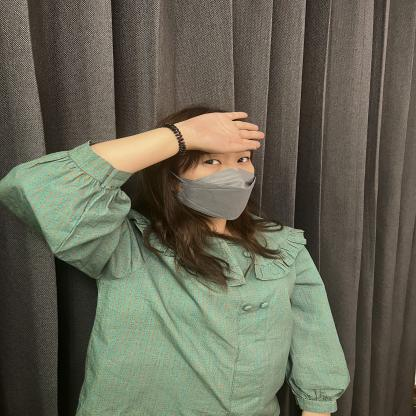Sick: (38, 107, 367, 214)
